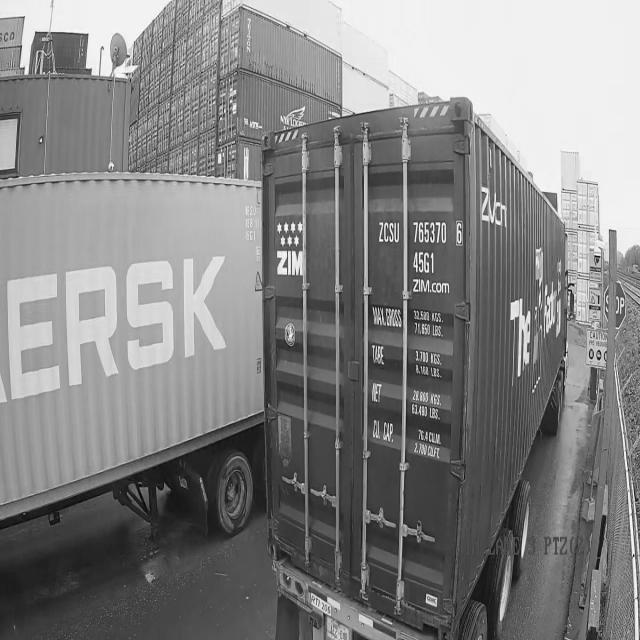container_company_logo: (275, 247, 307, 281)
container_number: (378, 216, 462, 293)
other_container_info: (372, 295, 448, 464)
truck_with_container: (262, 97, 574, 639), (0, 172, 266, 534)
